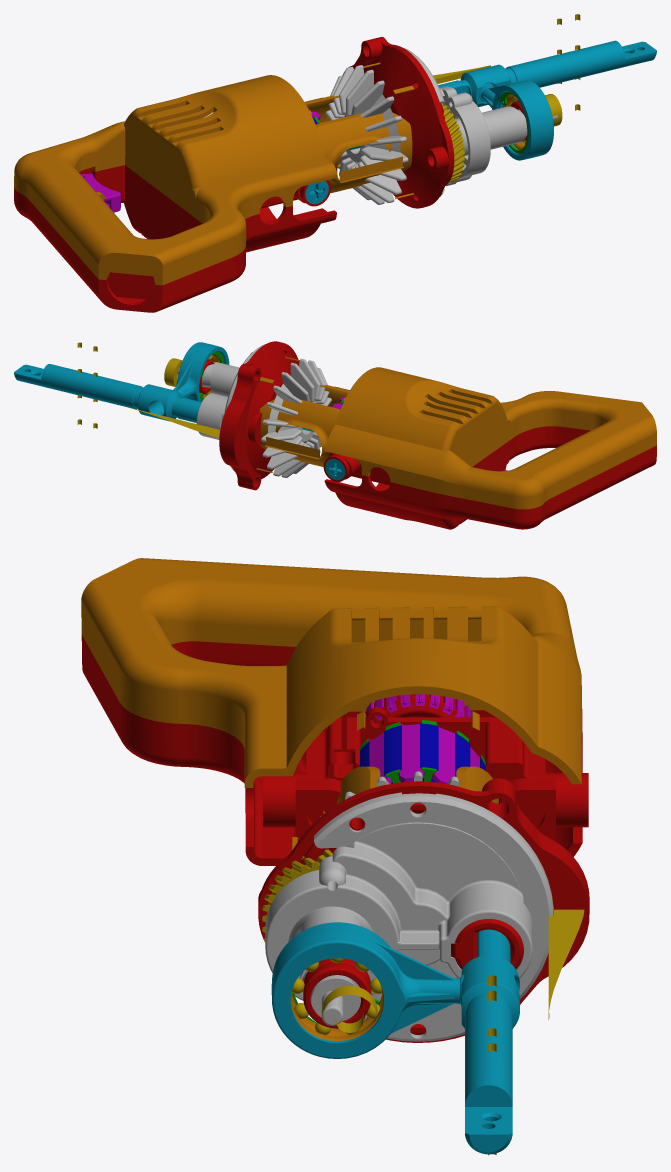
File: ReciprocatingSaw.gltf
The picture shows the model from 3 angles, top to bottom: view 1: azimuth 30°, elevation 25°; view 2: azimuth 150°, elevation 25°; view 3: azimuth 270°, elevation 25°; orthographic projection. The views are drawn at different scales.
Visible parts, largest first — view 1: body_5, body_1, body_59, body_57, body_142, body_15, body_150, body_140, body_148, body_7, body_144, body_17 (+4 smaller); view 2: body_5, body_1, body_59, body_142, body_57, body_15, body_150, body_140, body_7, body_148, body_23, body_17 (+3 smaller); view 3: body_5, body_140, body_23, body_1, body_150, body_142, body_59, body_148, body_83, body_138, body_146, body_165 (+5 smaller).
Part boxes in pixels (<box>): body_5: <box>14,75,336,285</box>; body_1: <box>14,165,336,312</box>; body_59: <box>343,37,454,208</box>; body_57: <box>325,65,408,204</box>; body_142: <box>438,40,656,107</box>; body_15: <box>306,97,412,193</box>; body_150: <box>479,80,553,160</box>; body_140: <box>404,48,490,196</box>; body_148: <box>456,106,557,156</box>; body_7: <box>106,100,223,279</box>; body_144: <box>441,103,464,182</box>; body_17: <box>339,156,403,182</box>; body_5: <box>324,367,656,509</box>; body_1: <box>324,426,656,529</box>; body_59: <box>219,341,299,490</box>; body_142: <box>14,364,201,422</box>; body_57: <box>261,358,331,477</box>; body_15: <box>259,386,347,466</box>; body_150: <box>173,342,229,401</box>; body_140: <box>196,344,264,470</box>; body_7: <box>419,389,492,426</box>; body_148: <box>177,362,239,396</box>; body_23: <box>323,452,390,485</box>; body_17: <box>265,437,319,459</box>; body_5: <box>81,558,581,787</box>; body_140: <box>265,792,553,1041</box>; body_23: <box>263,707,588,837</box>; body_1: <box>81,635,582,865</box>; body_150: <box>271,922,464,1058</box>; body_142: <box>461,929,519,1154</box>; body_59: <box>258,778,589,1042</box>; body_148: <box>288,906,373,1025</box>; body_83: <box>359,723,485,783</box>; body_138: <box>548,909,584,1020</box>; body_146: <box>451,919,523,969</box>; body_165: <box>303,959,371,1028</box>.
Size of the model in its own units: 375 by 83.92 by 149.
